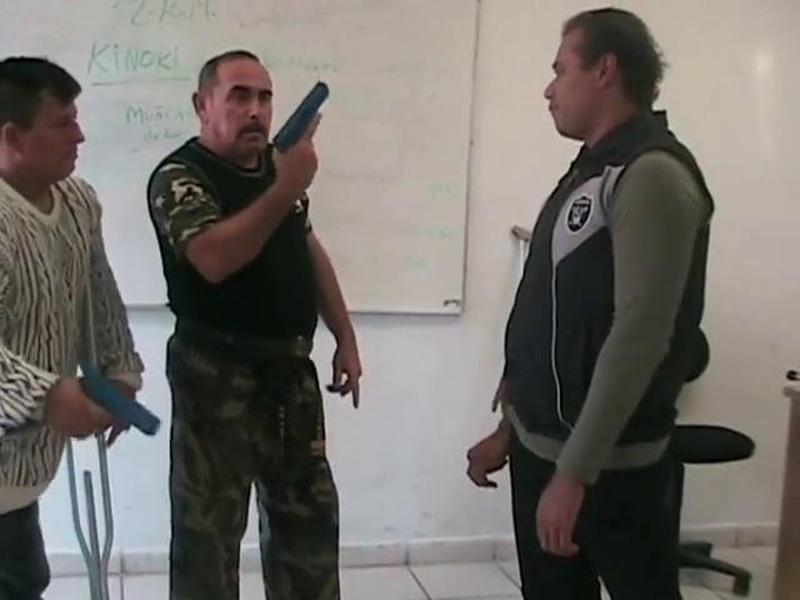Pistola: (49, 356, 165, 452), (256, 62, 345, 180)
